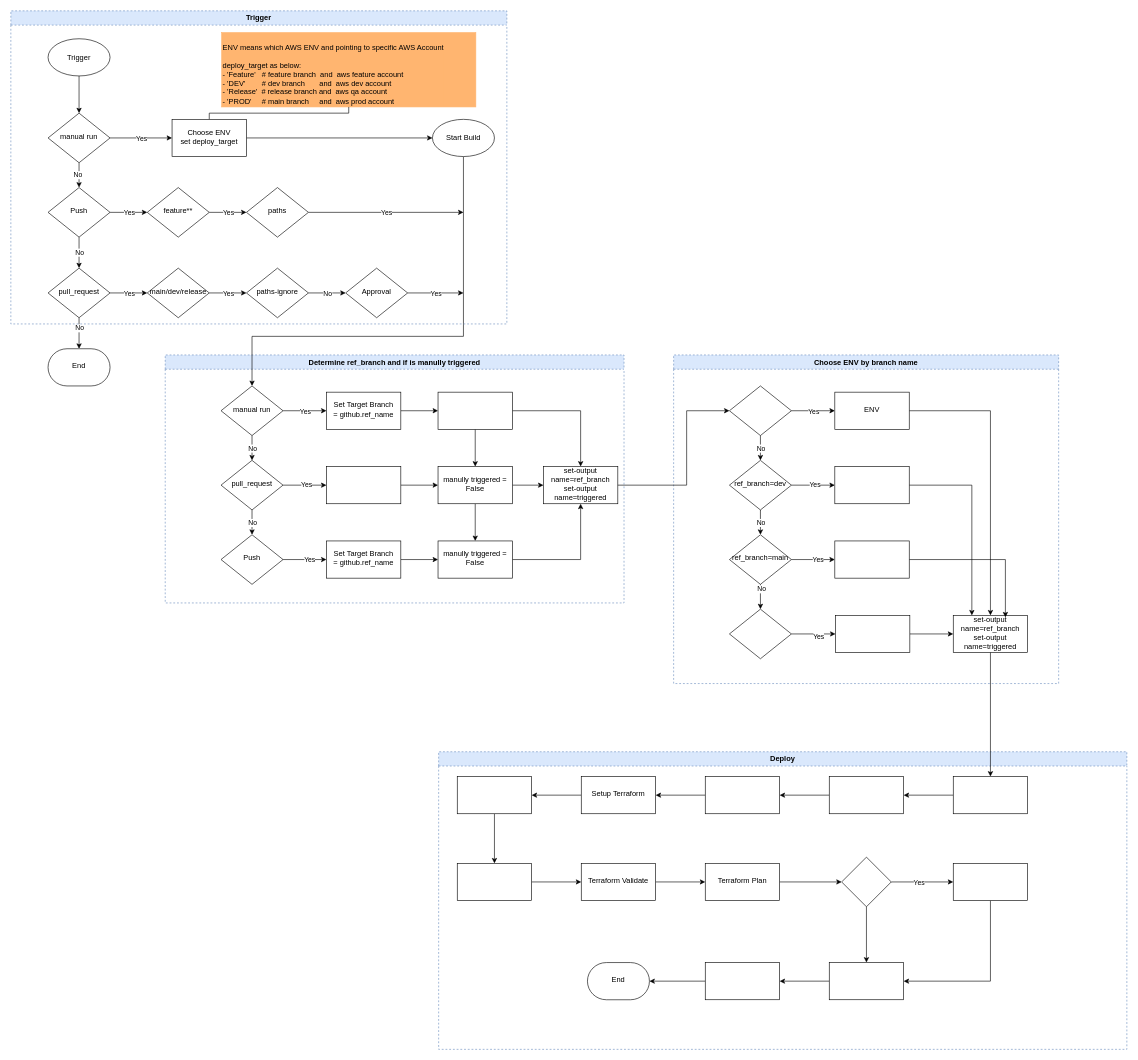
Some shapes in this 1138 by 1060 pixel diagram are drawn without their labels. The centre of each missing label's shape, as x and y in pixels:
"Check out code by ref_branch" goes at point 990,795.
"Check terraform format" goes at point 494,795.
"Configure AWS credentials for AWS account (Role )" goes at point 742,795.
"Dynamic set deploy module" goes at point 866,795.
"manual triggered" goes at point 760,410.
"manully triggered = true" goes at point 474,410.
"Pull Request" goes at point 866,882.
"ref_branch=feature*" goes at point 760,634.
"Set Target Branch = github.base_ref" goes at point 363,485.
"set-output env_name::DEV" goes at point 871,485.
"set-output env_name::Feature" goes at point 872,634.
"set-output env_name::PROD" goes at point 871,559.
"Terraform Apply -auto-approve" goes at point 742,981.
"Terraform Init with S3 backend" goes at point 494,882.
"Terraform Plan Status" goes at point 866,981.
"Write Log to Pull Request Detail Page" goes at point 990,882.
